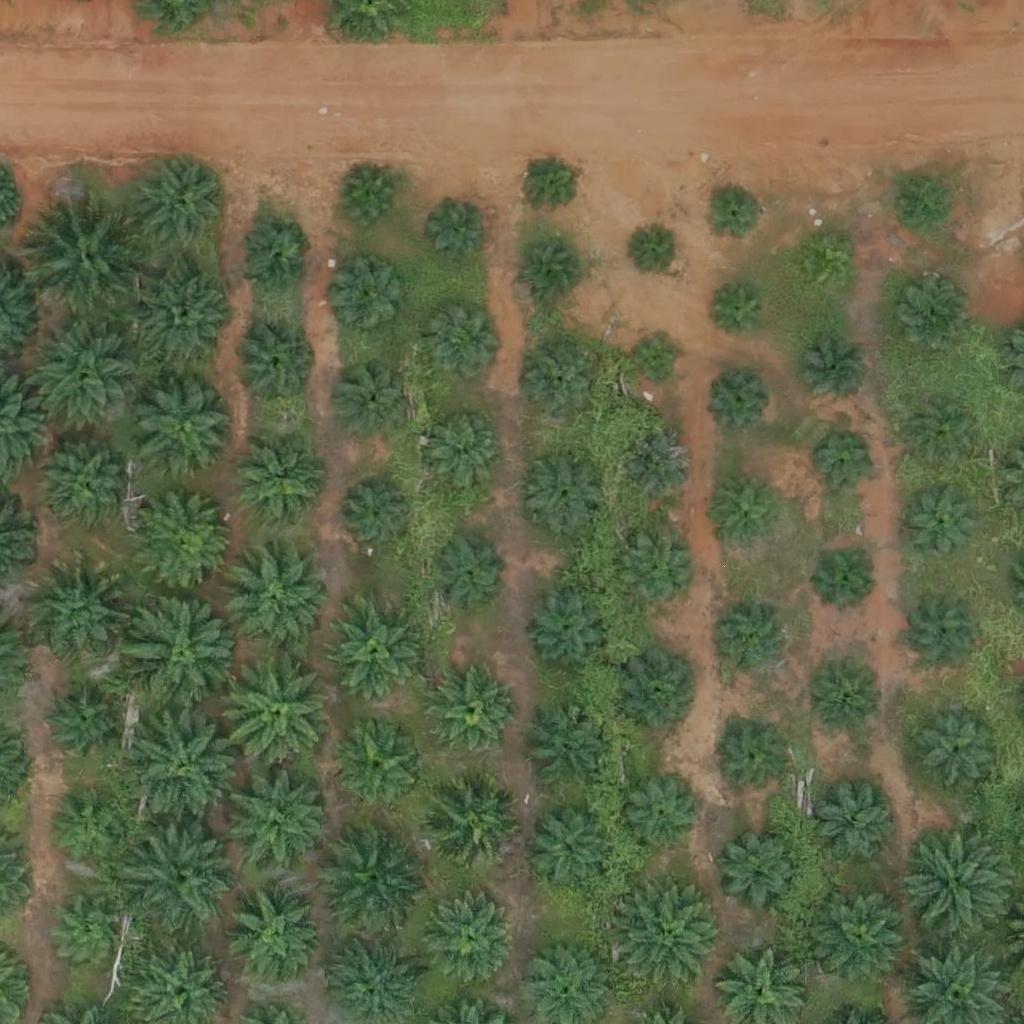Kelapa_Sawit: (25, 191, 150, 317), (21, 314, 146, 440), (123, 590, 248, 716), (123, 703, 248, 829), (215, 650, 340, 776), (898, 826, 1011, 939), (125, 820, 238, 933), (316, 823, 428, 937), (33, 561, 133, 662), (813, 886, 913, 987), (620, 883, 720, 984), (224, 883, 324, 984), (130, 154, 230, 254), (134, 270, 234, 370), (134, 377, 234, 477), (136, 494, 236, 594), (227, 550, 327, 650), (321, 601, 421, 701), (424, 777, 524, 877), (418, 892, 518, 992), (229, 769, 329, 869), (917, 708, 1005, 797), (521, 448, 609, 536), (616, 648, 704, 736), (236, 440, 324, 528), (525, 588, 613, 676), (713, 825, 801, 913), (334, 725, 422, 813), (808, 778, 895, 867), (231, 319, 318, 407), (42, 444, 129, 532), (430, 669, 517, 757), (525, 707, 612, 795), (527, 805, 614, 893), (425, 410, 500, 486), (335, 358, 410, 434), (340, 477, 415, 553), (429, 533, 504, 609), (908, 391, 983, 467), (892, 281, 967, 357), (235, 219, 310, 295), (333, 261, 408, 336), (426, 303, 501, 378), (524, 347, 599, 422), (52, 894, 127, 969), (51, 790, 126, 865), (718, 723, 793, 798), (706, 607, 781, 682), (907, 598, 982, 673), (908, 482, 983, 557), (616, 533, 691, 608), (44, 687, 119, 762), (623, 432, 698, 507), (795, 337, 870, 412), (809, 427, 884, 502), (807, 541, 882, 616), (810, 665, 885, 740), (624, 781, 699, 856), (518, 151, 581, 214), (519, 240, 582, 303), (716, 480, 779, 543), (793, 235, 856, 298), (885, 173, 948, 236), (338, 167, 400, 230), (428, 200, 490, 263), (703, 182, 765, 245), (707, 282, 769, 345), (707, 369, 769, 432), (633, 226, 683, 277), (632, 332, 682, 383)
